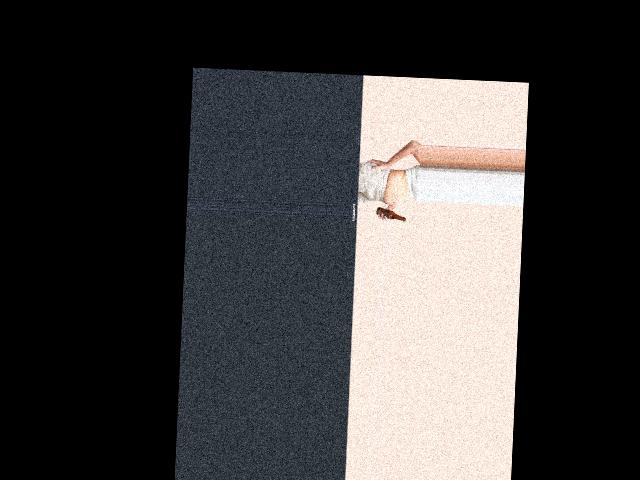beer: (375, 206, 405, 221)
